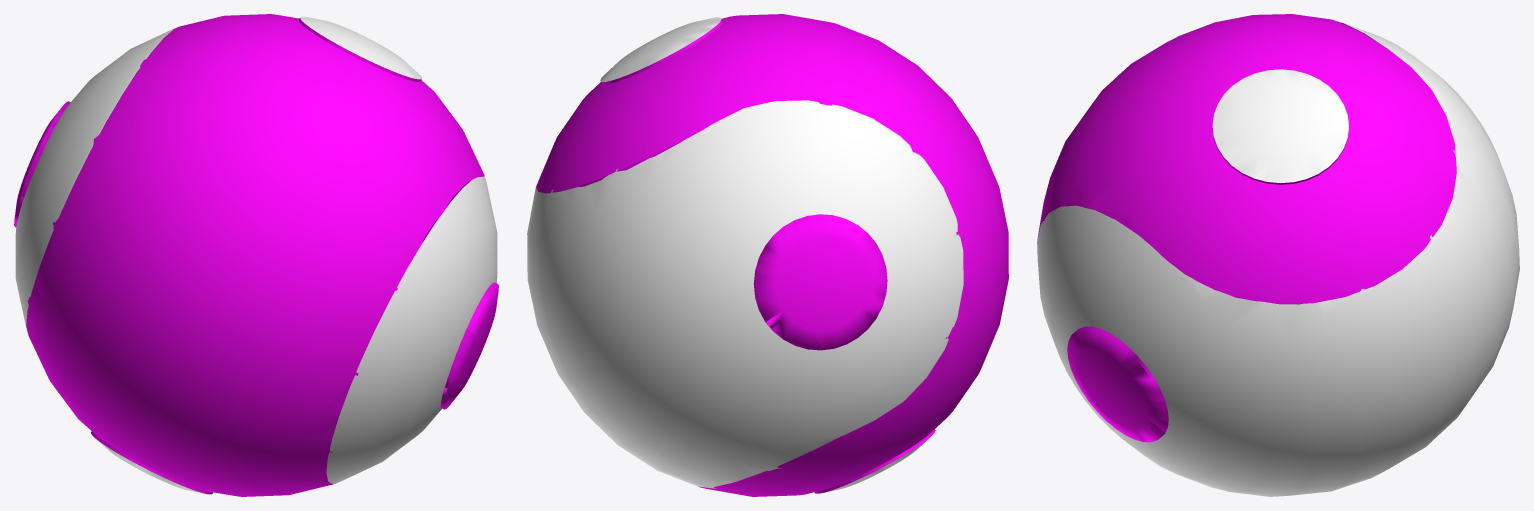
Rendered from yinyang_jade_purple.obj.
The picture shows the model from 3 angles, left to right: view 1: azimuth 30°, elevation 25°; view 2: azimuth 150°, elevation 25°; view 3: azimuth 270°, elevation 25°; orthographic projection.
Parts seen in each view (by area): view 1: SphereDark, SphereLight, eyeDark, eyeLight; view 2: SphereLight, SphereDark, eyeDark, eyeLight; view 3: SphereLight, SphereDark, eyeLight, eyeDark.
Boxes of the visible parts, box(x1,y1,x2,y2) form: SphereDark: box(27, 14, 484, 496); SphereLight: box(15, 27, 497, 483); eyeDark: box(14, 101, 498, 409); eyeLight: box(91, 16, 421, 494); SphereLight: box(527, 100, 963, 488); SphereDark: box(536, 14, 1008, 496); eyeDark: box(753, 214, 887, 350); eyeLight: box(600, 17, 935, 493); SphereLight: box(1037, 22, 1519, 496); SphereDark: box(1037, 14, 1456, 304); eyeLight: box(1212, 69, 1348, 184); eyeDark: box(1067, 279, 1302, 442).
Bounding box in the file's own units: 2 × 2 × 2.
